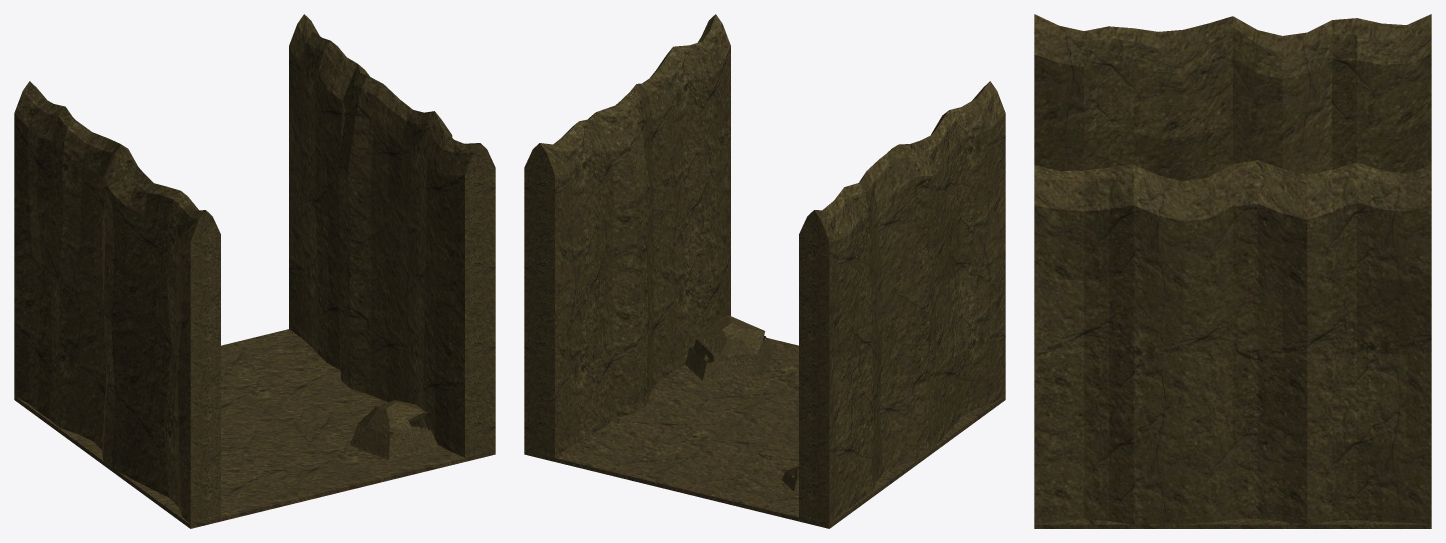
File: dungeon_corridor_4_limestone.glb
The picture shows the model from 3 angles, left to right: view 1: azimuth 30°, elevation 25°; view 2: azimuth 150°, elevation 25°; view 3: azimuth 270°, elevation 25°; orthographic projection. The views are drawn at different scales.
Visible parts, largest first — view 1: dungeon_corridor_4_limestone; view 2: dungeon_corridor_4_limestone; view 3: dungeon_corridor_4_limestone.
Part boxes in pixels (x1,y1,x2,y2): dungeon_corridor_4_limestone: (14, 14, 495, 528); dungeon_corridor_4_limestone: (524, 14, 1005, 528); dungeon_corridor_4_limestone: (1034, 14, 1431, 528).
Bounding box in the file's own units: 4.09 × 3.96 × 4.
2 materials, 2 textured.
